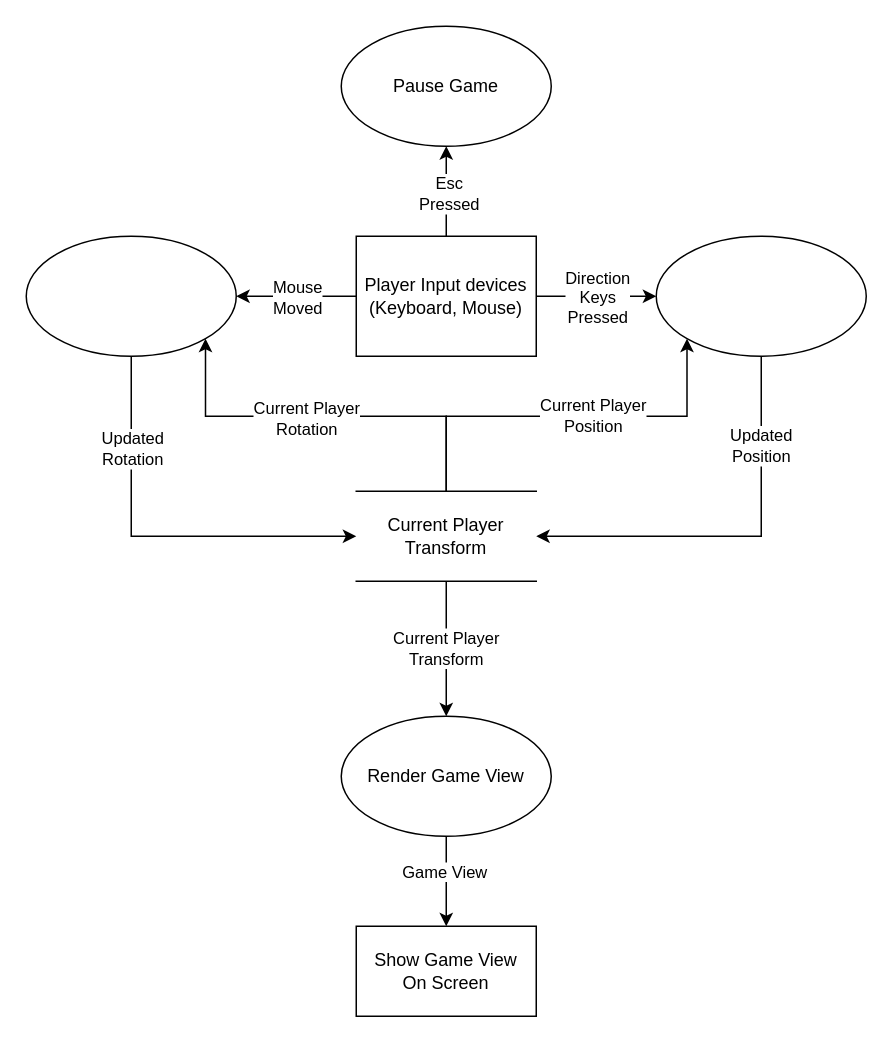
Image size: 893x1043. Some labels were removed from this diagram. The shapes that lost their labels are listed below. From the top down, each one's centre as x and y in pixels, then its label:
At (x=130, y=295): "Update Player Transform's Rotaion".
At (x=760, y=295): "Update Player Transform's Positon".
